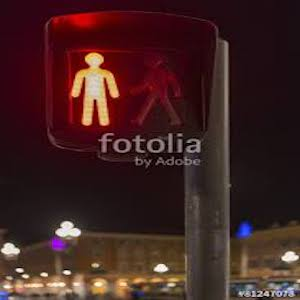red: (74, 51, 114, 127)
